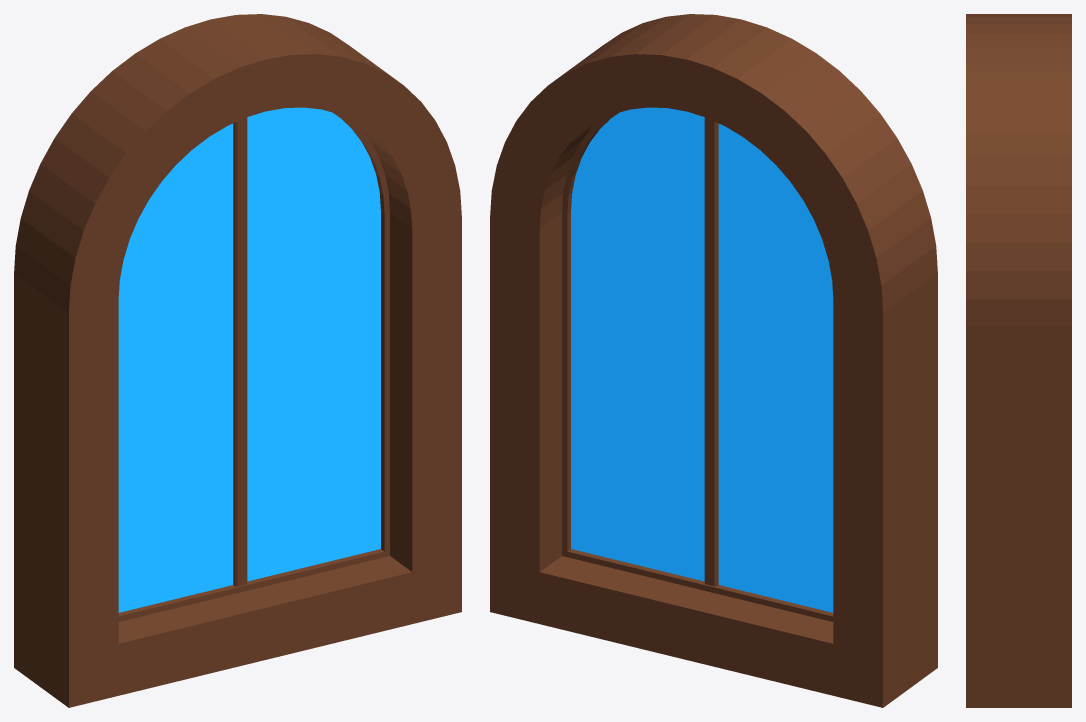
Rendered from janela_arco_folhas_madeira.glb.
3 views of the same model, side by side, from view 1: azimuth 30°, elevation 25°; view 2: azimuth 150°, elevation 25°; view 3: azimuth 270°, elevation 25° (orthographic). The views are drawn at different scales.
Visible parts, largest first — view 1: janela_arco_folhas_madeira; view 2: janela_arco_folhas_madeira; view 3: janela_arco_folhas_madeira.
Part boxes in pixels (left/top/right/bottom): janela_arco_folhas_madeira: left=14, top=14, right=461, bottom=707; janela_arco_folhas_madeira: left=490, top=14, right=937, bottom=707; janela_arco_folhas_madeira: left=966, top=14, right=1071, bottom=707.
Bounding box in the file's own units: 0.87 × 1.27 × 0.21.
